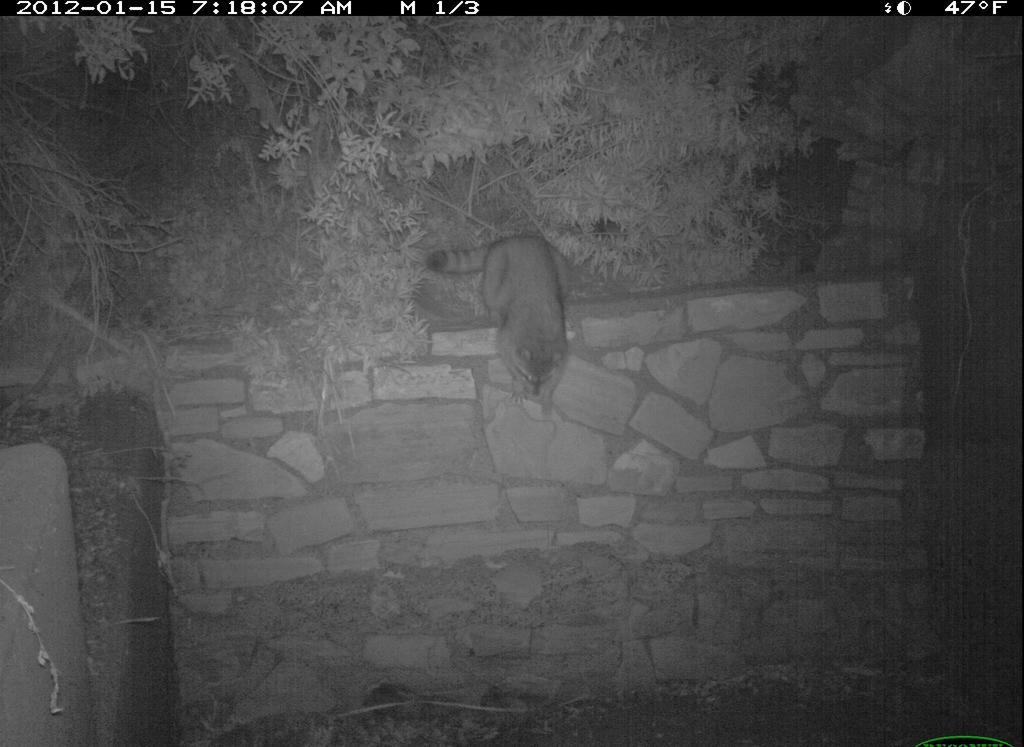raccoon: (429, 217, 598, 420)
